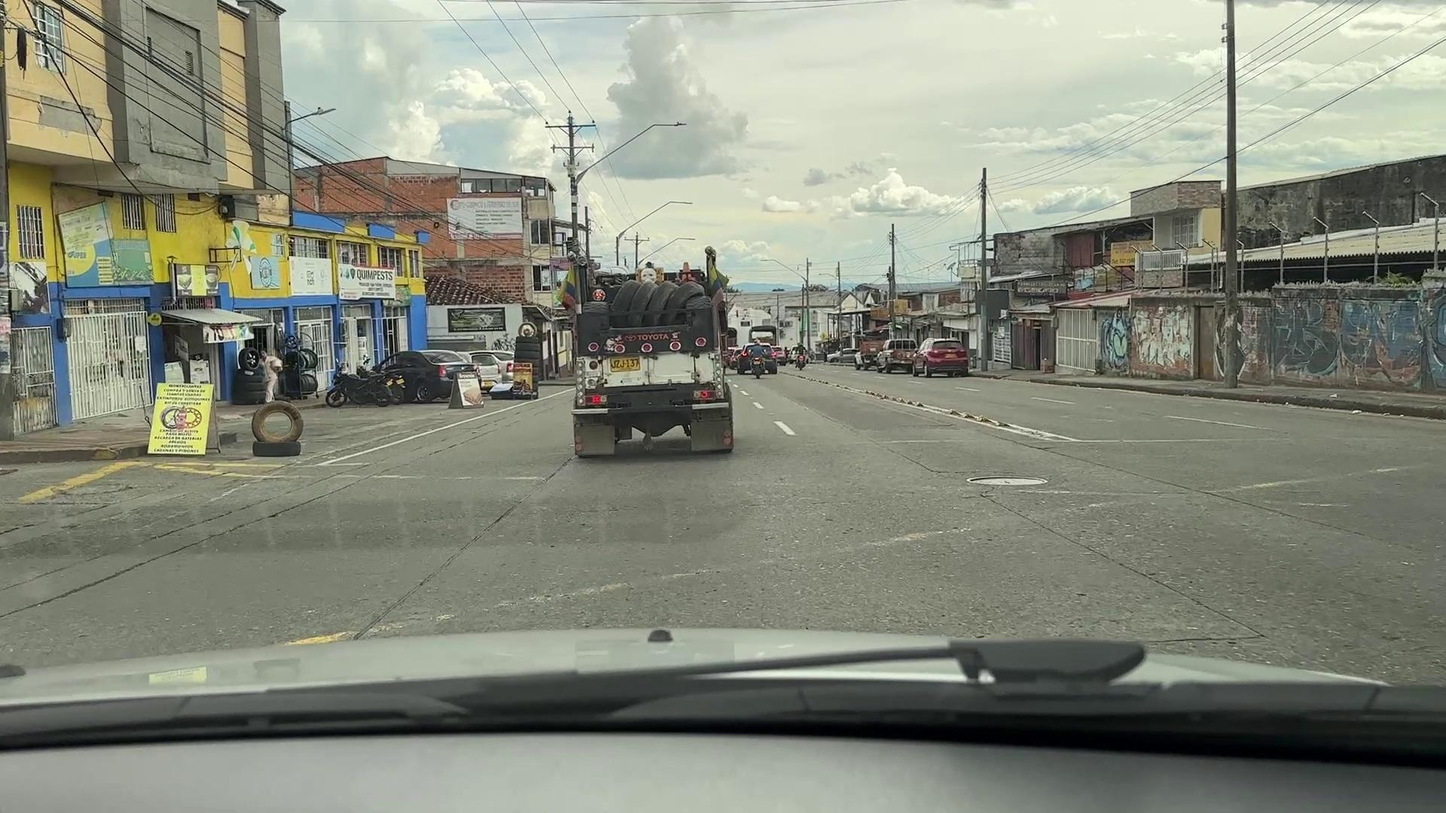registro: (966, 476, 1047, 485)
